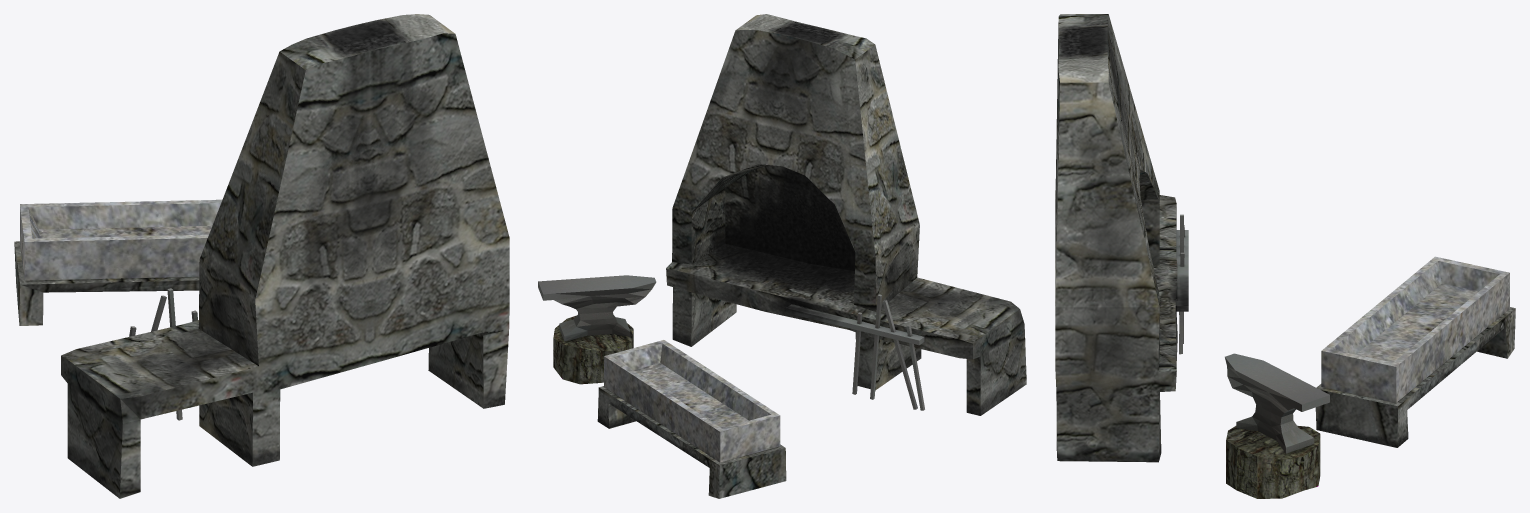
The model's file is Forge.obj.
3 views of the same model, side by side, from view 1: azimuth 30°, elevation 25°; view 2: azimuth 150°, elevation 25°; view 3: azimuth 270°, elevation 25° (orthographic). The views are drawn at different scales.
Parts seen in each view (by area): view 1: default; view 2: default; view 3: default.
Part boxes in pixels (x1,y1,x2,y2): default: (14,14,509,498); default: (538,14,1026,498); default: (1055,14,1515,498).
Bounding box in the file's own units: 164 × 127 × 145.
Materials: 1 (1 with a texture image).
